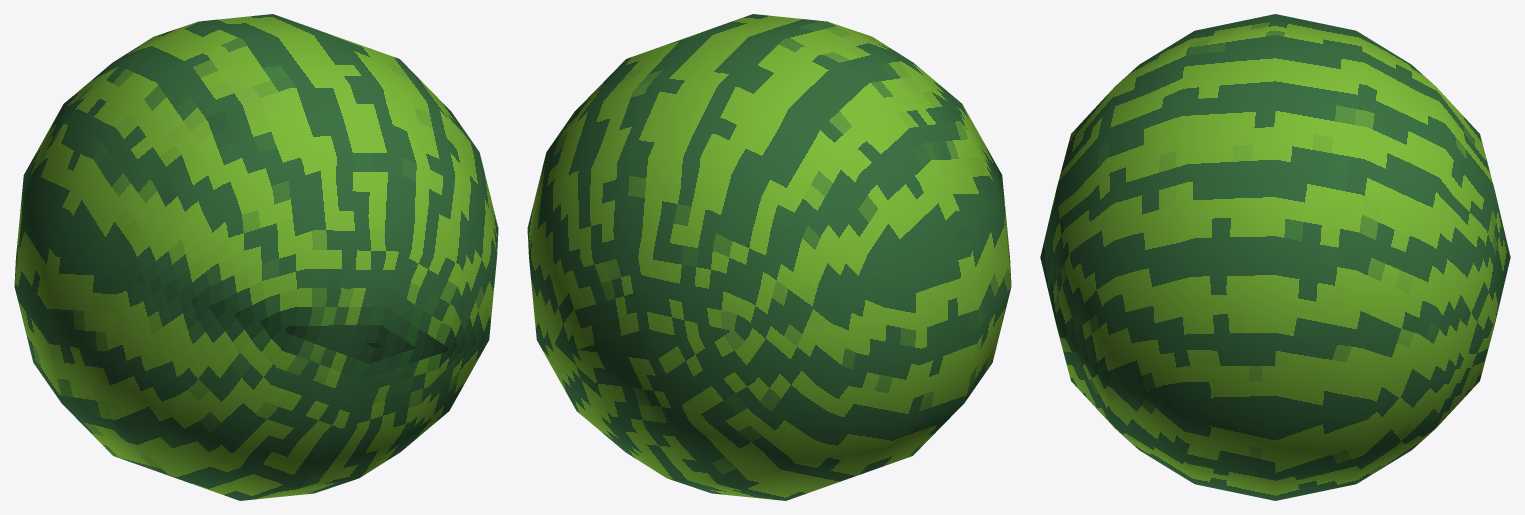
Rendered from xigua.fbx.
3 renders of one model, left to right at view 1: azimuth 30°, elevation 25°; view 2: azimuth 150°, elevation 25°; view 3: azimuth 270°, elevation 25°, orthographic. The views are drawn at different scales.
Parts seen in each view (by area): view 1: 对象016; view 2: 对象016; view 3: 对象016.
Part boxes in pixels (x1,y1,x2,y2): 对象016: (14,14,498,500); 对象016: (527,14,1011,500); 对象016: (1040,14,1510,500).
Size of the model in its own units: 12.39 by 12.39 by 12.24.
